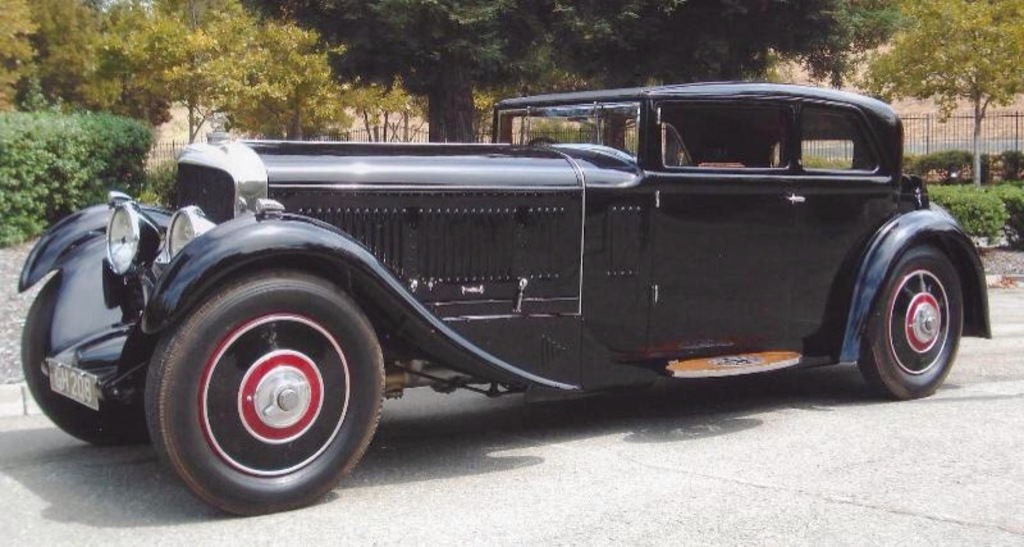Car: (12, 76, 999, 517)
